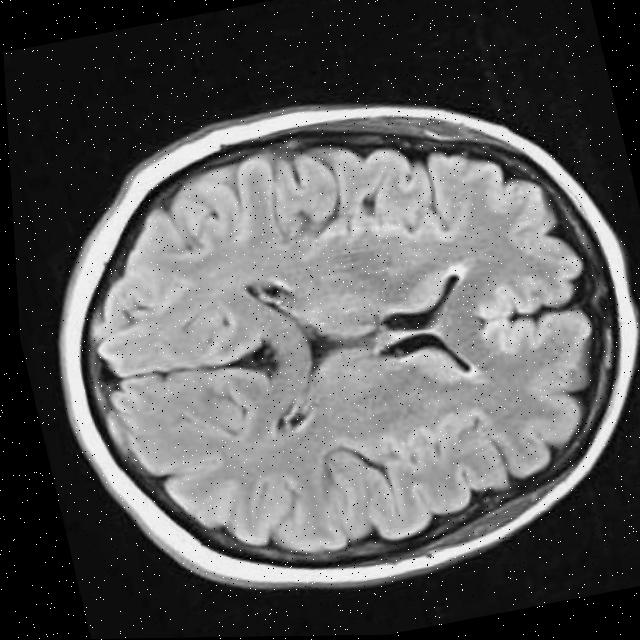NoTumor: (36, 84, 640, 601)
